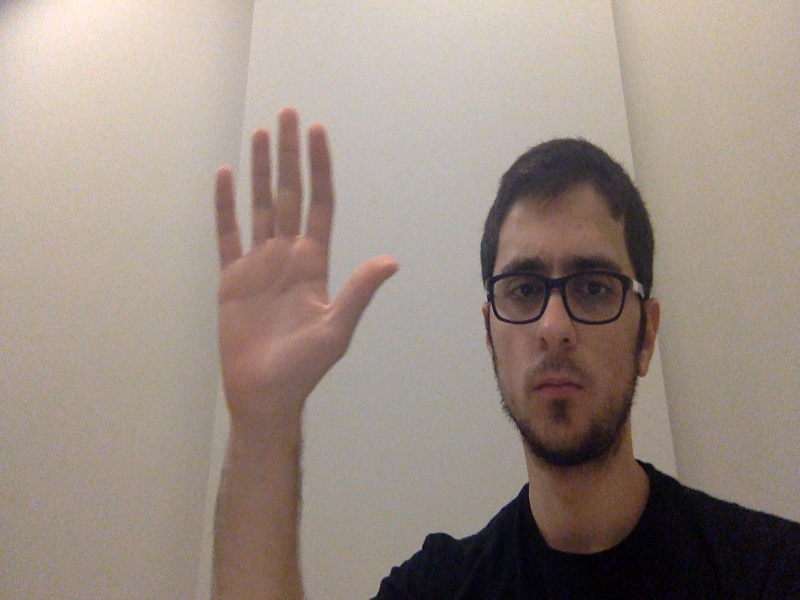5-hand: (198, 100, 403, 410)
